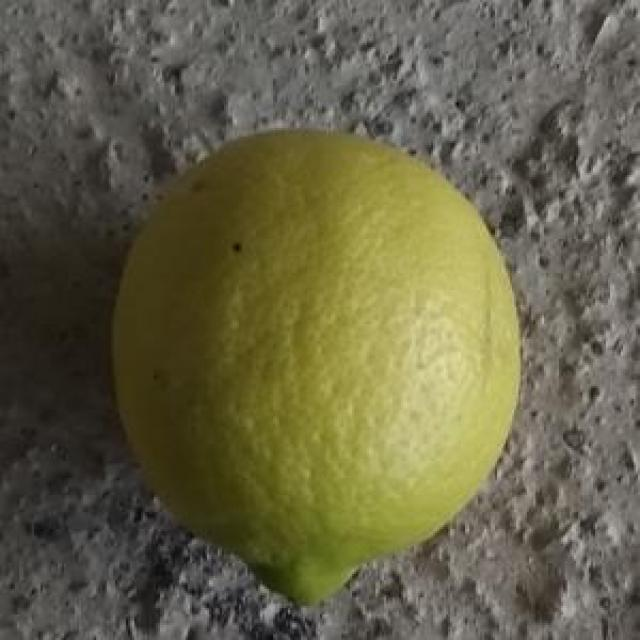lemon: (116, 125, 522, 602)
